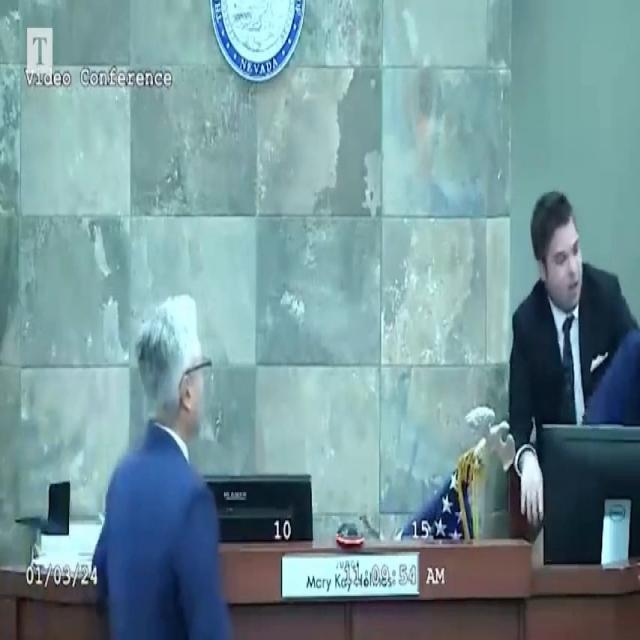non-fight: (90, 289, 234, 640), (509, 178, 640, 530)
